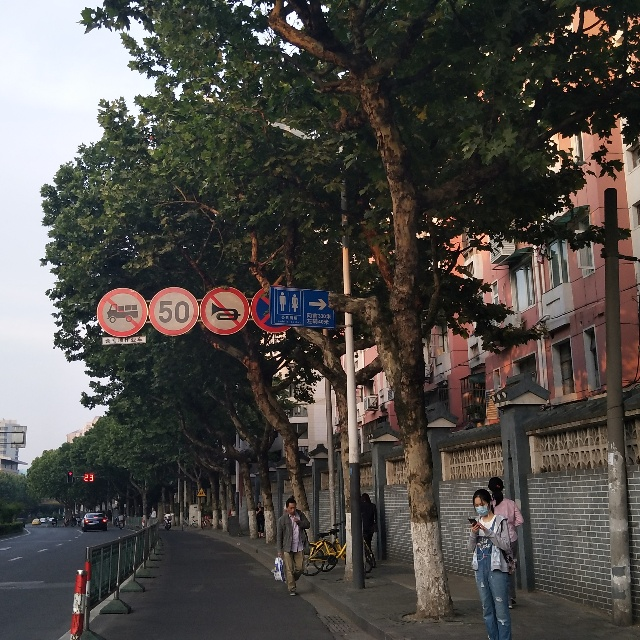nohonk: (197, 285, 248, 335)
